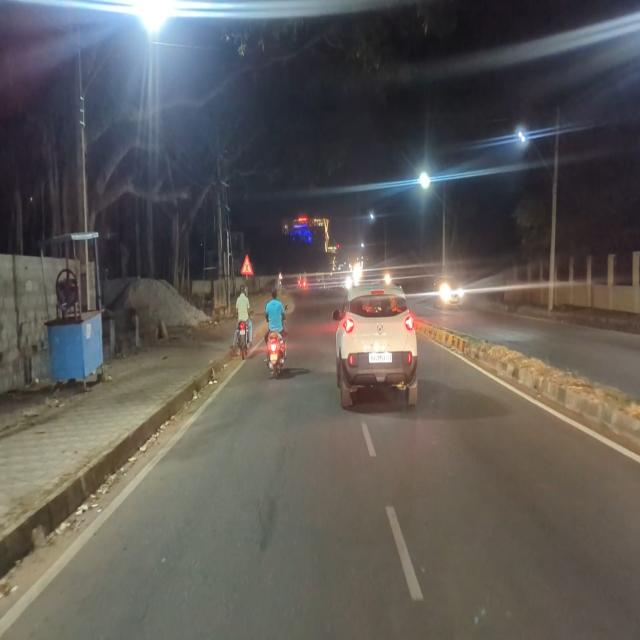bien_cam: (240, 254, 254, 275)
